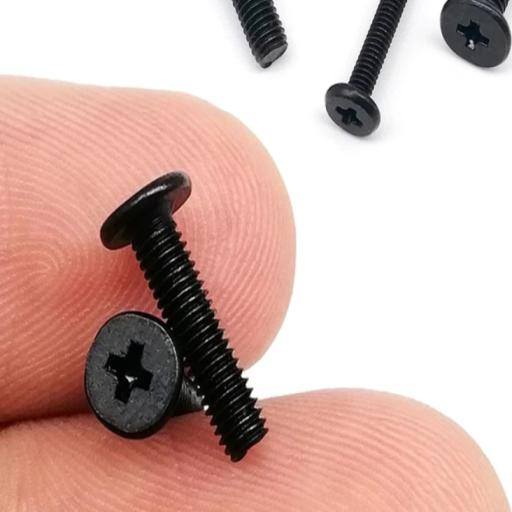Phillips: (84, 314, 180, 439)
